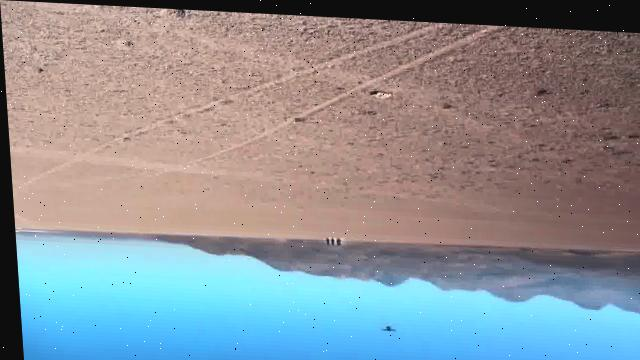drone: (375, 320, 394, 330)
